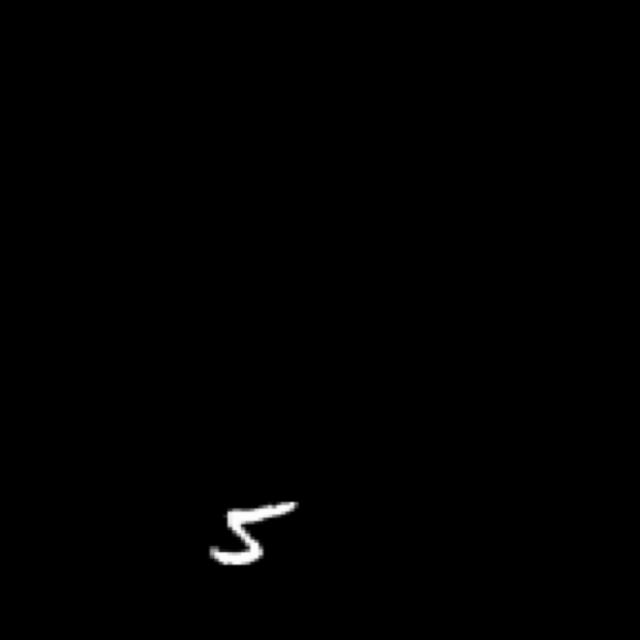five -5-: (198, 493, 302, 581)
